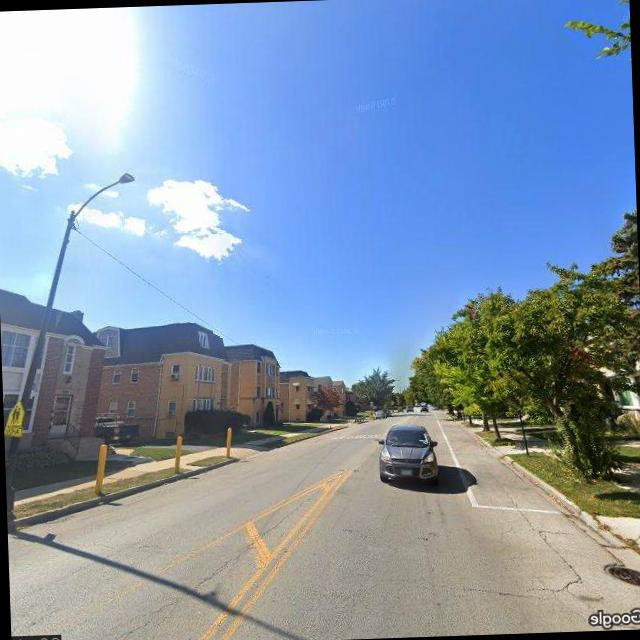crack: (129, 488, 321, 630), (504, 484, 586, 591), (458, 574, 588, 602)
